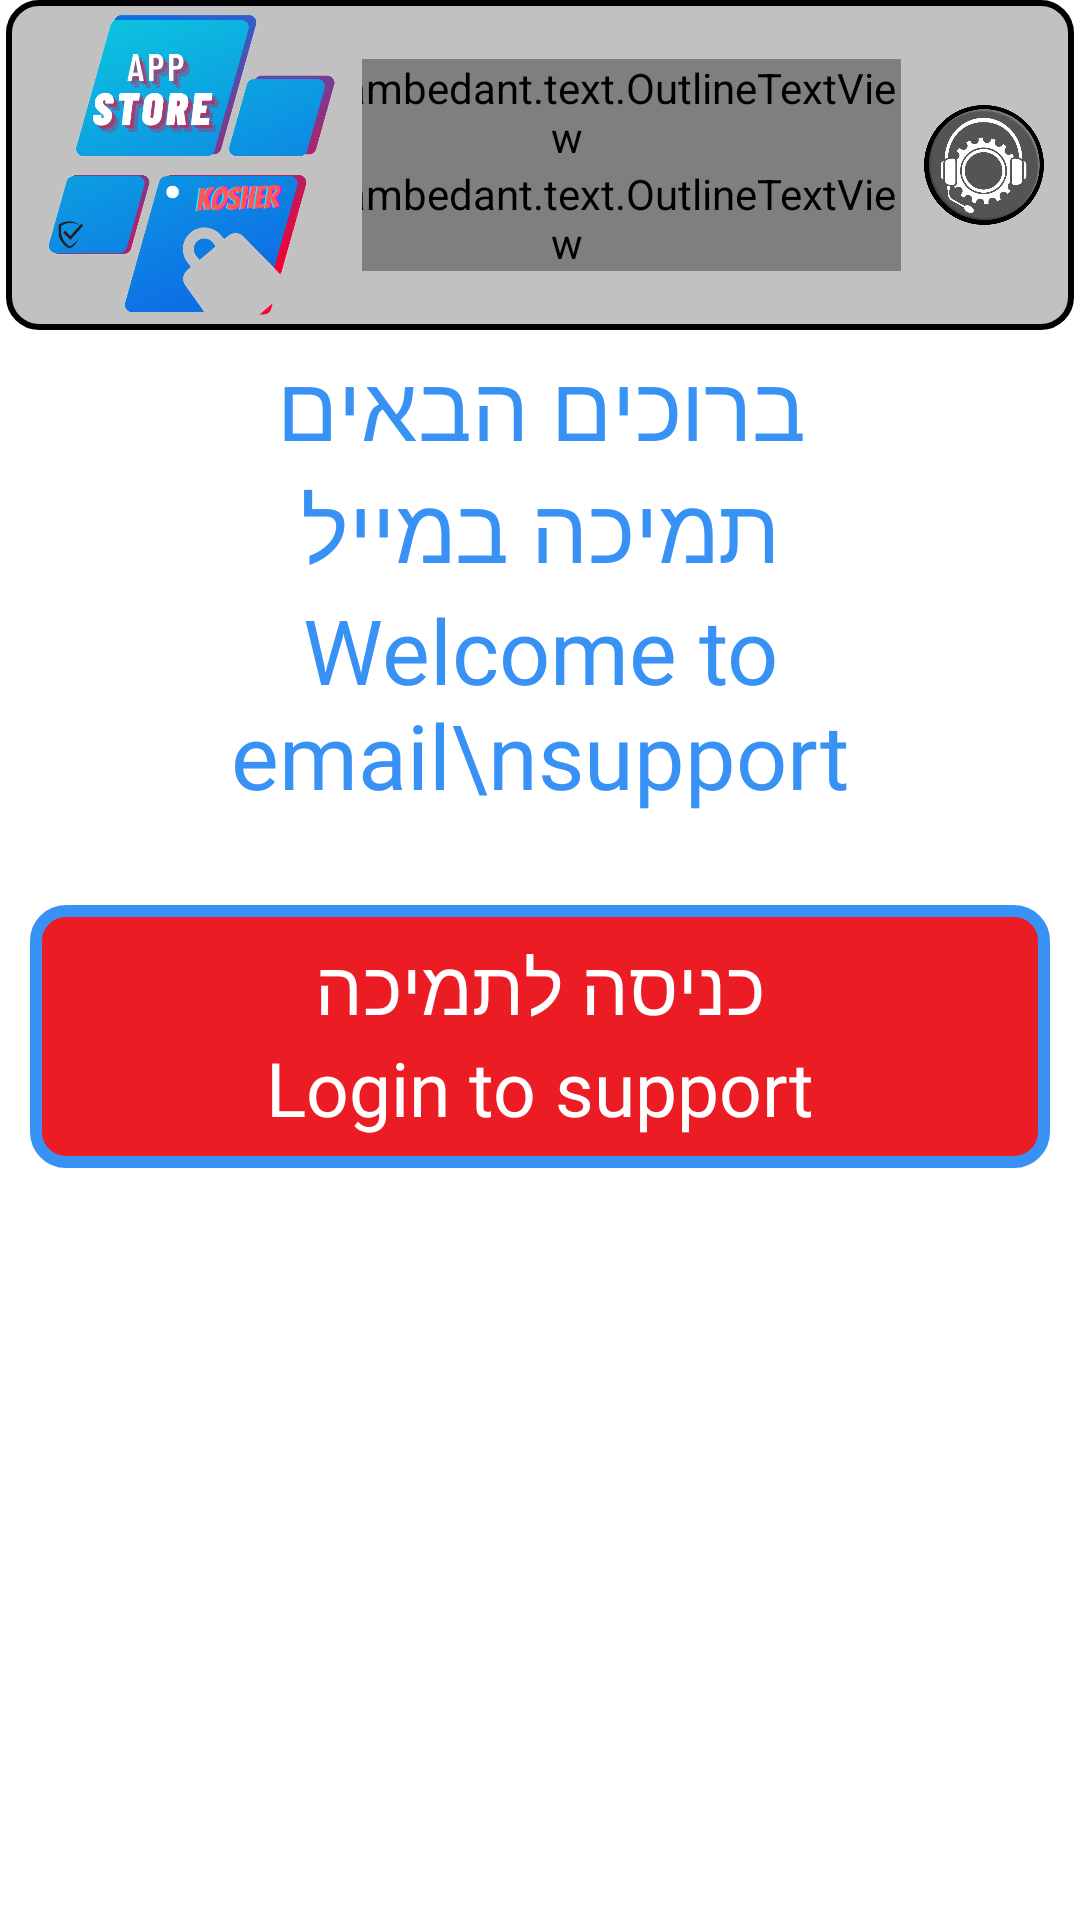

Icon bounding boxes for this 1080 × 1920 phone screenshot, format region(x1, y1, x2, y2):
support: region(924, 105, 1044, 225)
